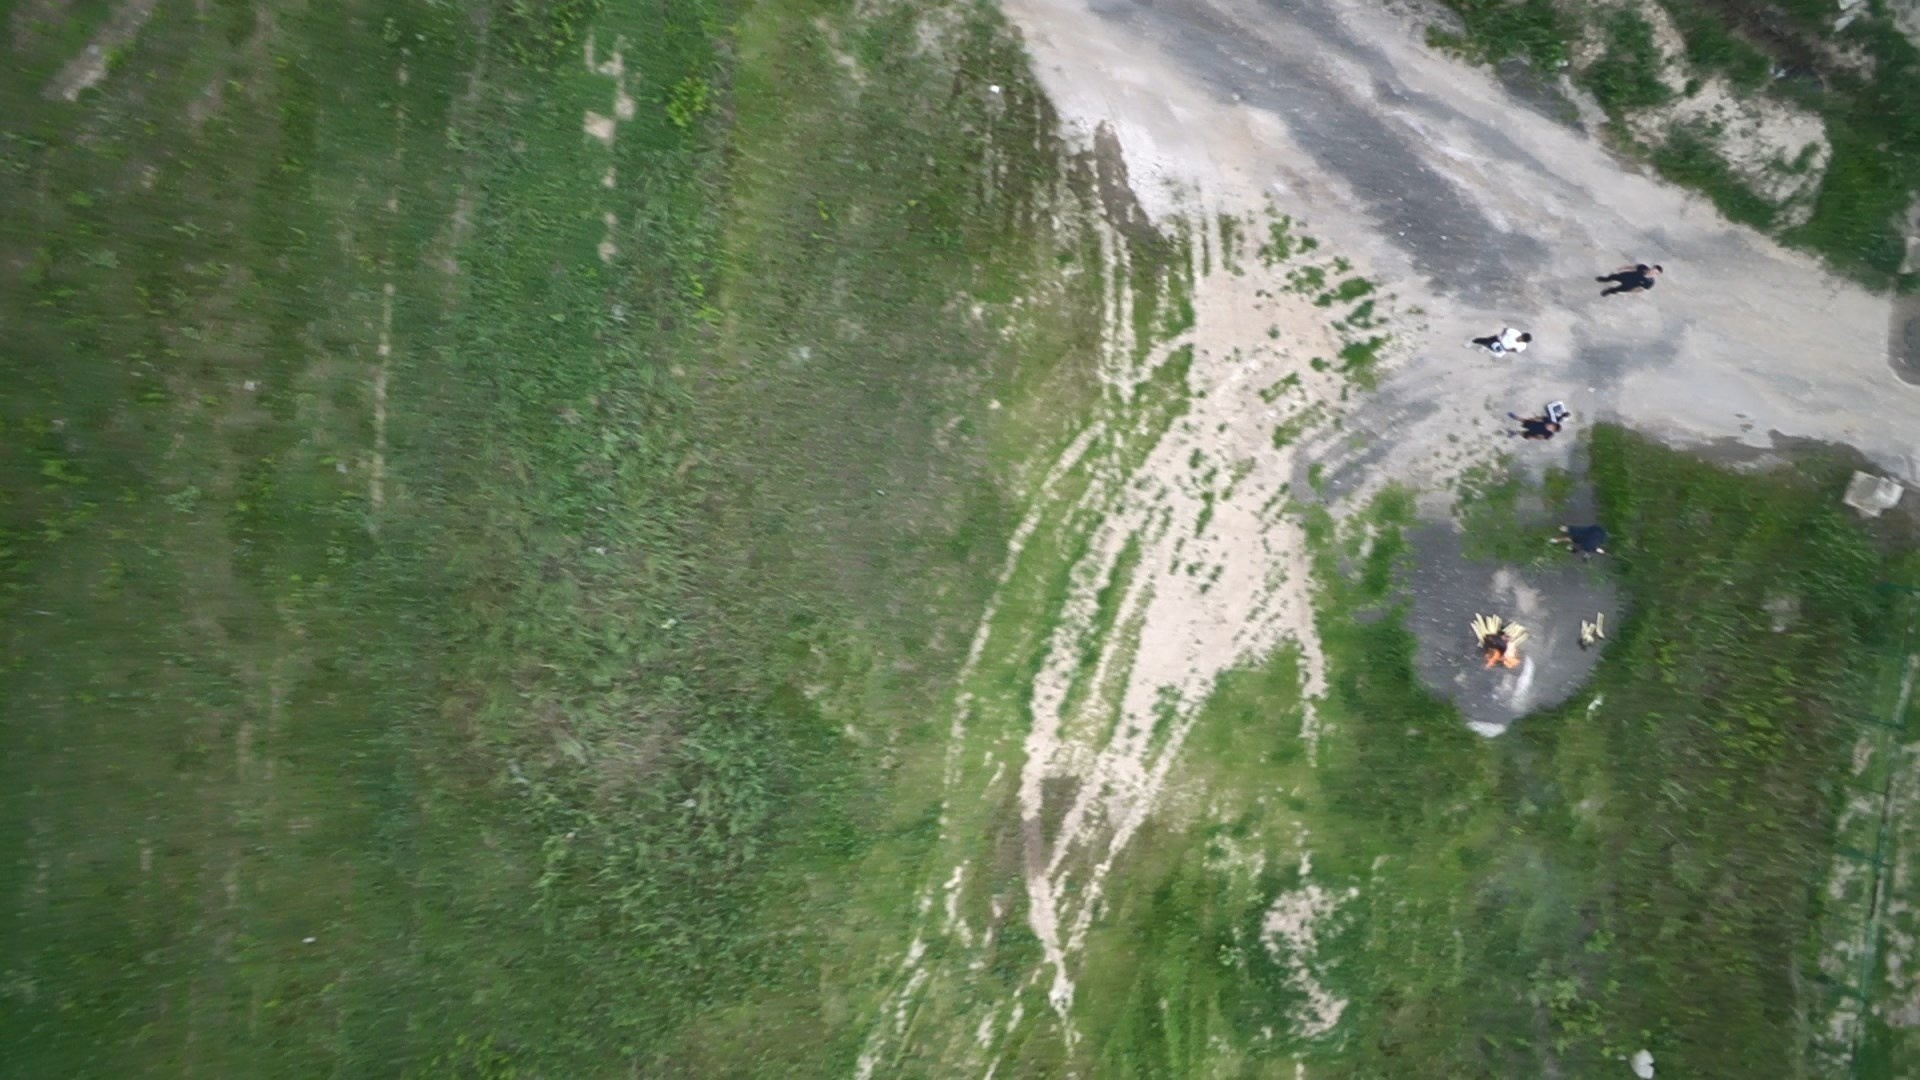fire: (1466, 608, 1528, 678)
